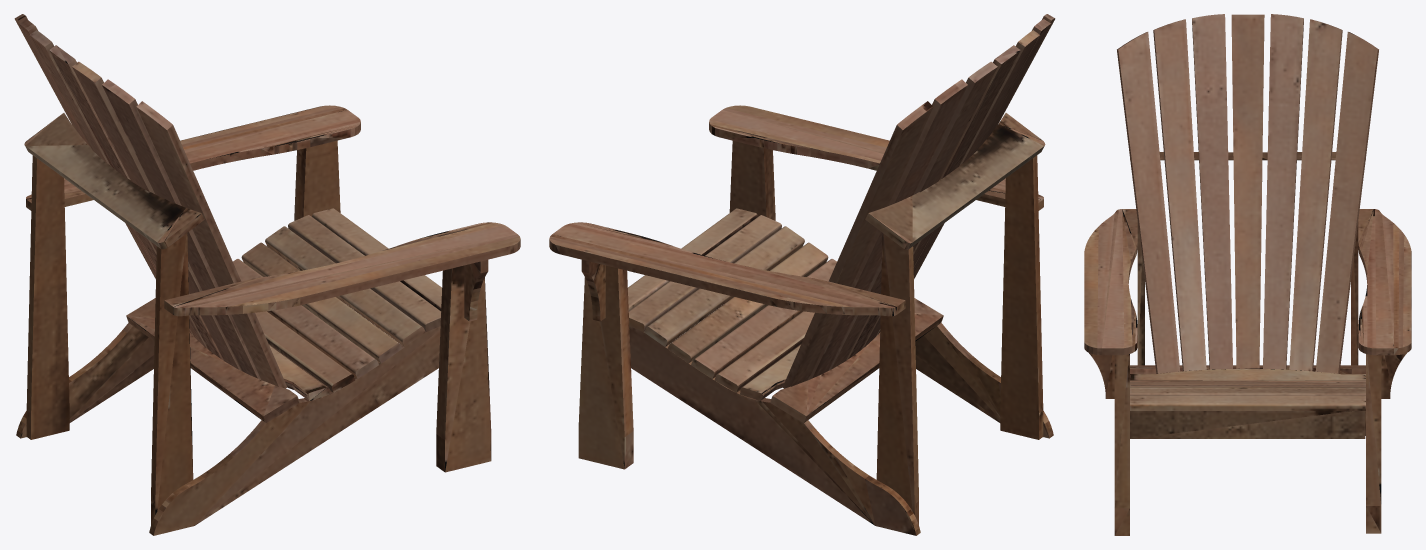
3 views of the same model, side by side, from view 1: azimuth 30°, elevation 25°; view 2: azimuth 150°, elevation 25°; view 3: azimuth 270°, elevation 25° (orthographic). The views are drawn at different scales.
Visible parts, largest first — view 1: Node; view 2: Node; view 3: Node.
Boxes of the visible parts, <box> form: Node: <box>14,14,520,535</box>; Node: <box>549,14,1055,535</box>; Node: <box>1084,14,1411,535</box>.
Size of the model in its own units: 0.6249 by 0.7 by 0.5514.
1 material, 1 textured.
